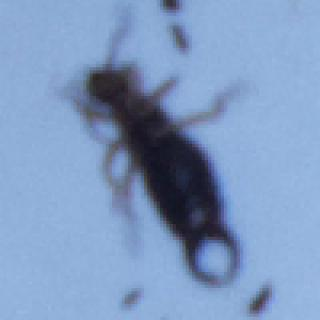earwig: (59, 3, 249, 294)
